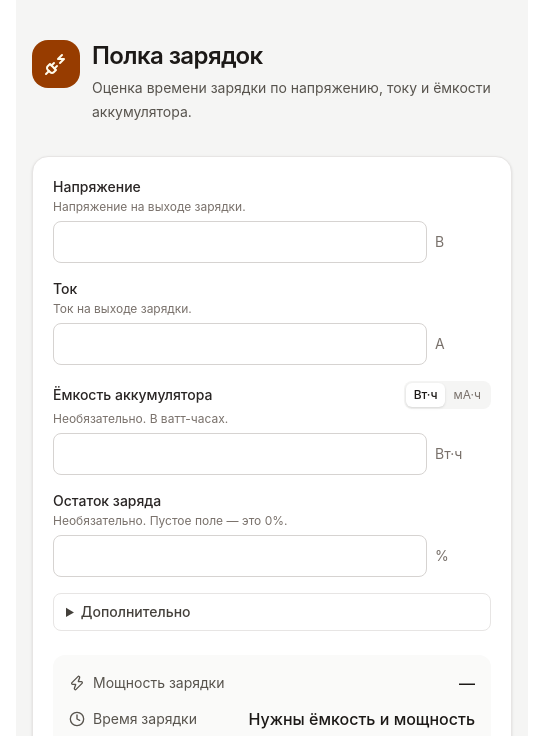
Test: home calculator › applies the default 85% efficiency and doubles time at 50%
In the number field labelled "Напряжение": (240, 242) [53, 221, 427, 263], type "5"
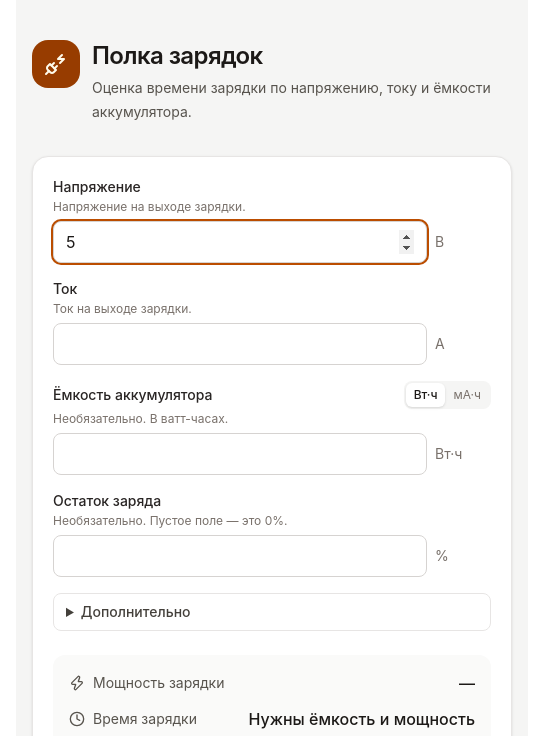
In the number field labelled "Ток": (240, 344) [53, 323, 427, 365], type "2"
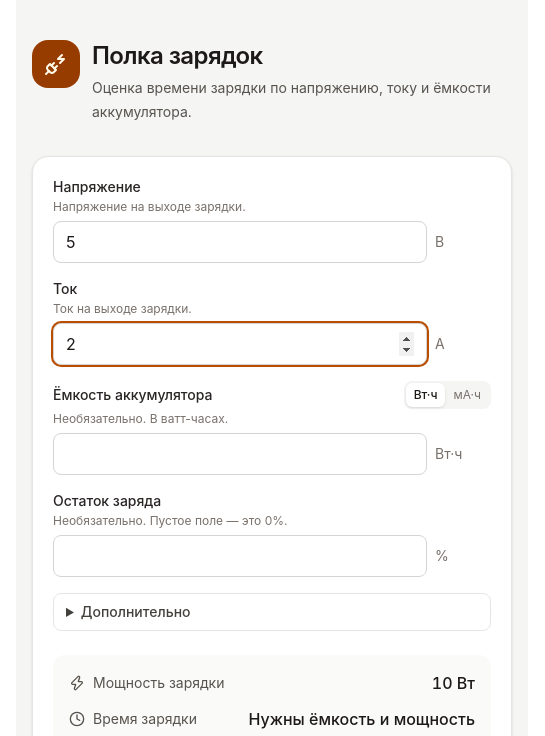
In the number field labelled "Ёмкость аккумулятора": (240, 454) [53, 433, 427, 475], type "10"
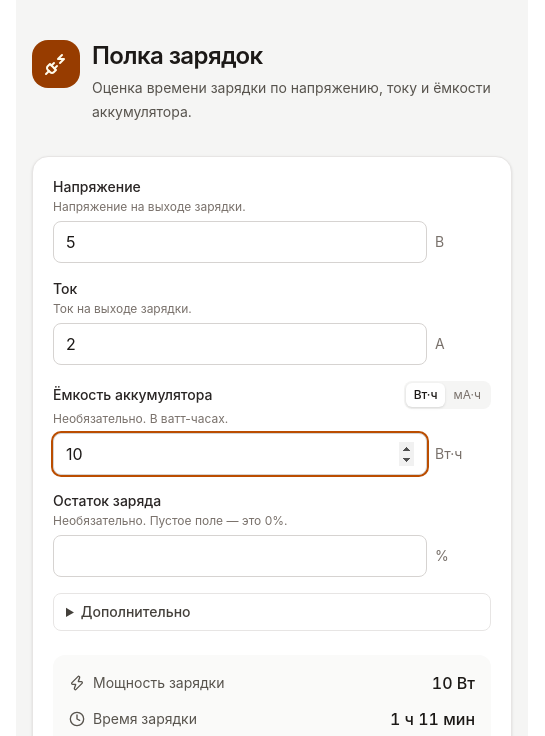
Result: the text "10 Вт" is shown at [432, 671, 475, 695]
Result: the text "1 ч 11 мин" is shown at [390, 707, 475, 731]
Click the heading "Дополнительно": (136, 612) [81, 603, 190, 620]
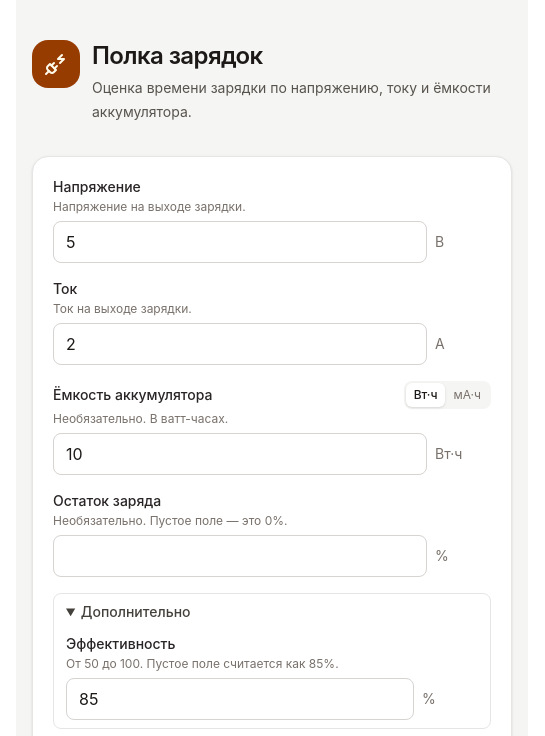
Replace the text in the number field labelled "Эффективность" with "50": (240, 699) [66, 678, 414, 720]
(page scrolled)
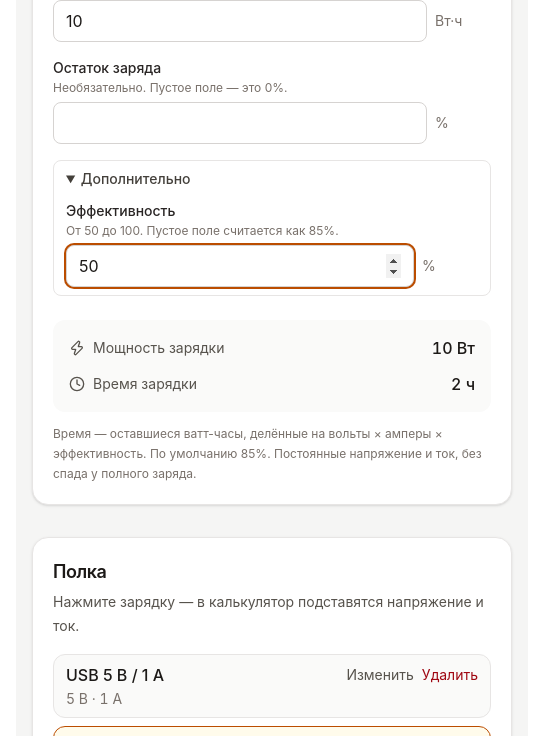
Result: the text "2 ч" is shown at [451, 372, 475, 396]
